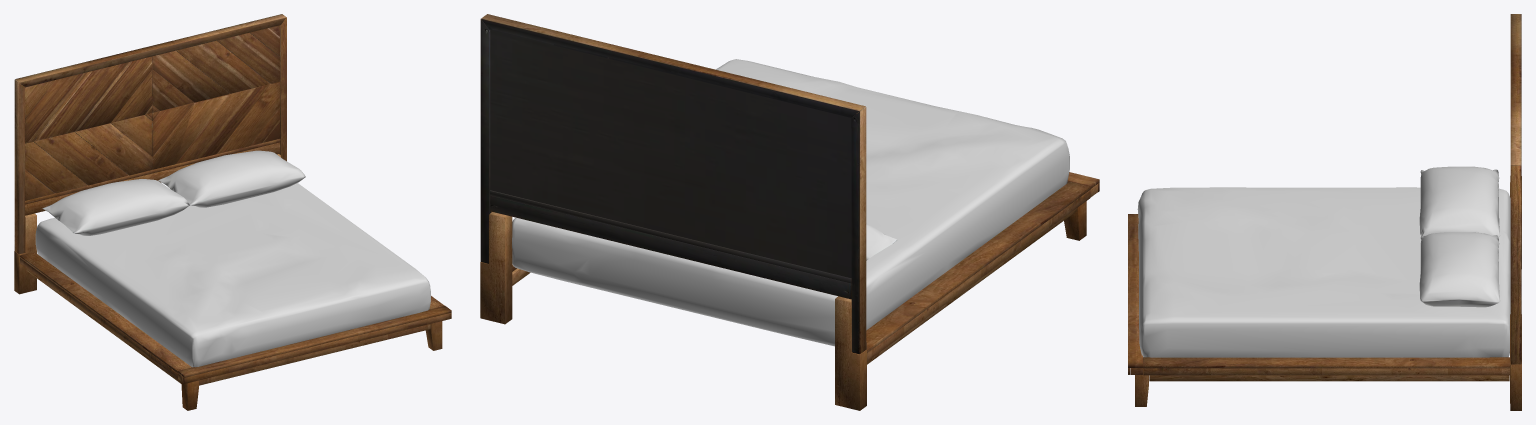
File: abo-B07B4Y45S1.glb
The picture shows the model from 3 angles, left to right: view 1: azimuth 30°, elevation 25°; view 2: azimuth 150°, elevation 25°; view 3: azimuth 270°, elevation 25°; orthographic projection. The views are drawn at different scales.
Parts seen in each view (by area): view 1: RootNode; view 2: RootNode; view 3: RootNode.
Boxes of the visible parts, x1,y1,x2,y2 form: RootNode: (14, 14, 451, 410); RootNode: (480, 14, 1099, 410); RootNode: (1128, 14, 1521, 410).
Size of the model in its own units: 2.04 by 1.54 by 2.23.
Materials: 1 (1 with a texture image).
